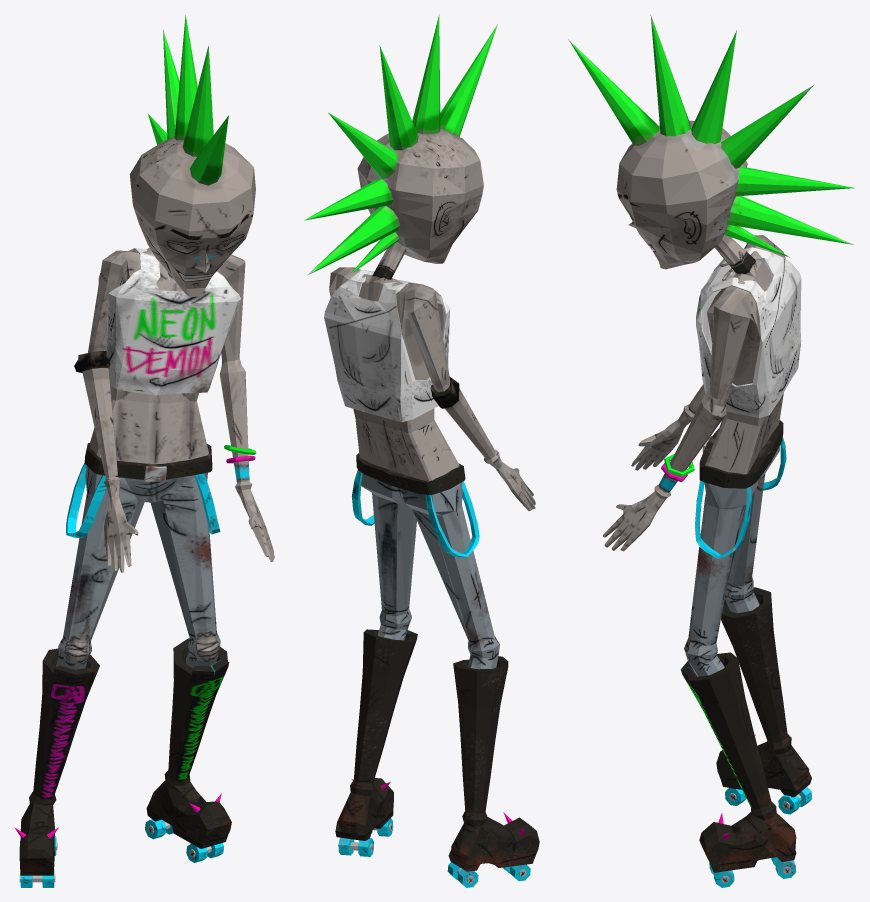
The model's file is punkAnimation_000001.obj.
3 renders of one model, left to right at view 1: azimuth 30°, elevation 25°; view 2: azimuth 150°, elevation 25°; view 3: azimuth 270°, elevation 25°, orthographic. The views are drawn at different scales.
Parts seen in each view (by area): view 1: Cube.004_Cube.003; view 2: Cube.004_Cube.003; view 3: Cube.004_Cube.003.
Boxes of the visible parts, left/top/right/bottom form: Cube.004_Cube.003: left=14, top=15, right=274, bottom=887; Cube.004_Cube.003: left=304, top=14, right=539, bottom=887; Cube.004_Cube.003: left=568, top=14, right=854, bottom=887.
Size of the model in its own units: 2.05 by 7.47 by 2.29.
